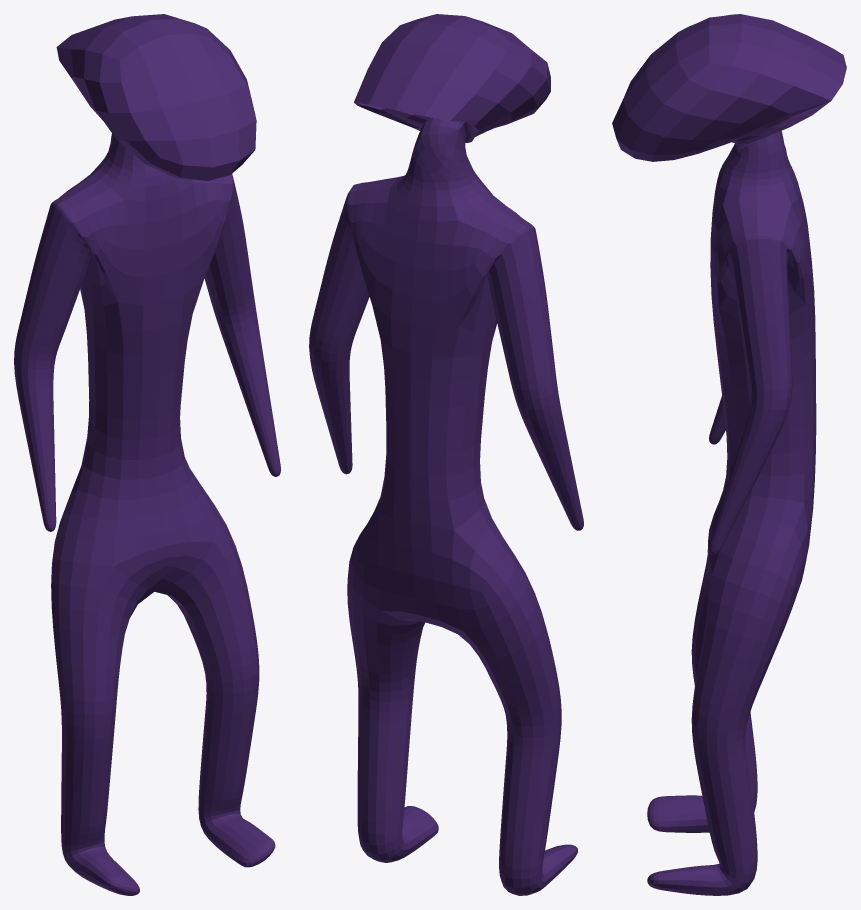
Rendered from easymonster.fbx.
3 views of the same model, side by side, from view 1: azimuth 30°, elevation 25°; view 2: azimuth 150°, elevation 25°; view 3: azimuth 270°, elevation 25° (orthographic). The views are drawn at different scales.
Parts seen in each view (by area): view 1: Plane; view 2: Plane; view 3: Plane.
Boxes of the visible parts, x1=… form: Plane: x1=14, y1=14, x2=280, y2=895; Plane: x1=309, y1=14, x2=583, y2=895; Plane: x1=612, y1=14, x2=846, y2=895.
Size of the model in its own units: 111 by 371 by 94.16.
